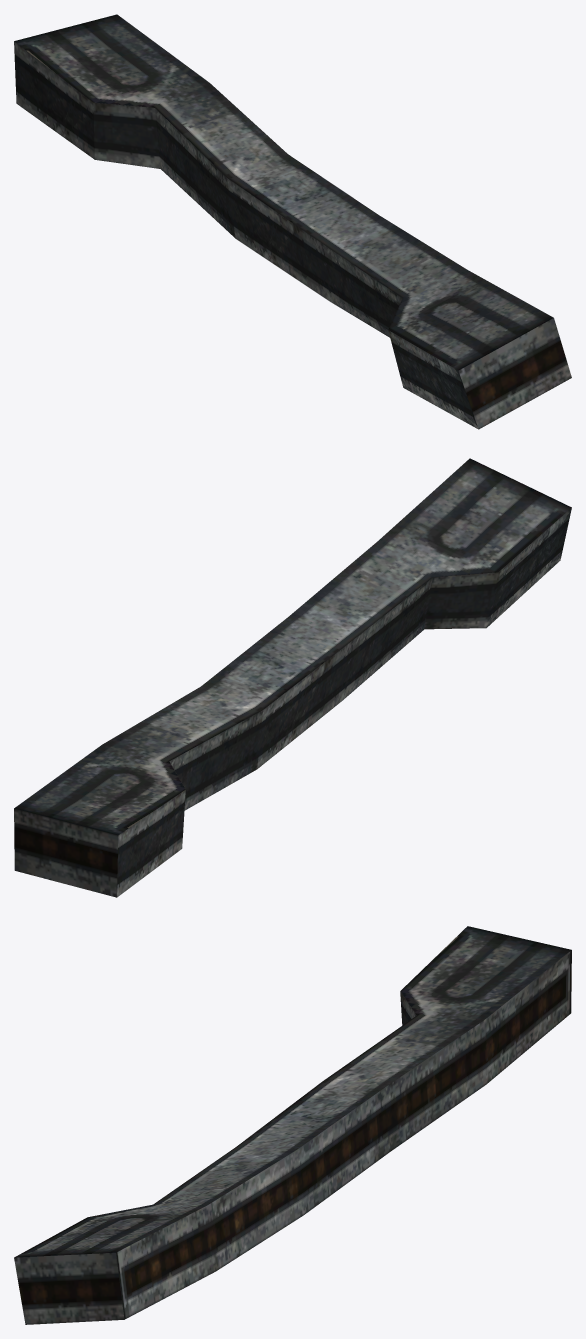
File: catwalk_white_piece_03.dae
3 views of the same model, one above another, from view 1: azimuth 30°, elevation 25°; view 2: azimuth 150°, elevation 25°; view 3: azimuth 330°, elevation 25° (orthographic).
Visible parts, largest first — view 1: catwalk_end_piece; view 2: catwalk_end_piece; view 3: catwalk_end_piece.
Boxes of the visible parts, x1=… form: catwalk_end_piece: x1=14, y1=14, x2=571, y2=429; catwalk_end_piece: x1=14, y1=458, x2=571, y2=897; catwalk_end_piece: x1=14, y1=926, x2=571, y2=1324.
Bounding box in the file's own units: 0.2357 × 0.2043 × 1.65.
